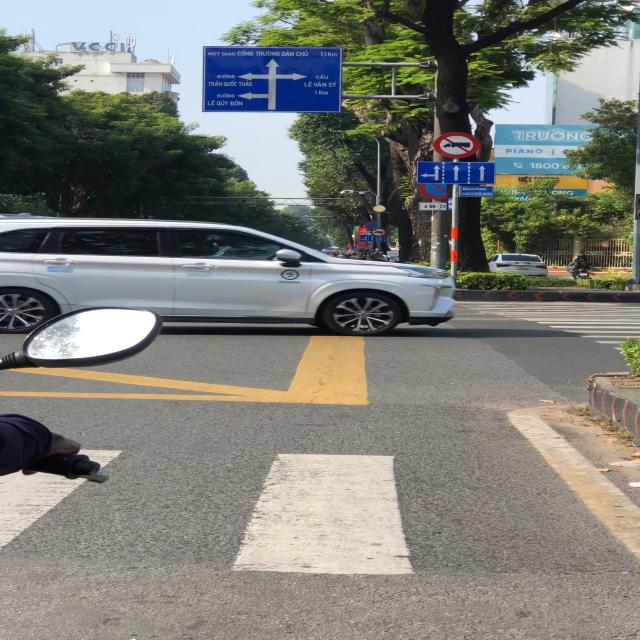Bien bao cam xe so-mi ro-mooc: (433, 131, 485, 159), (368, 226, 386, 238)
